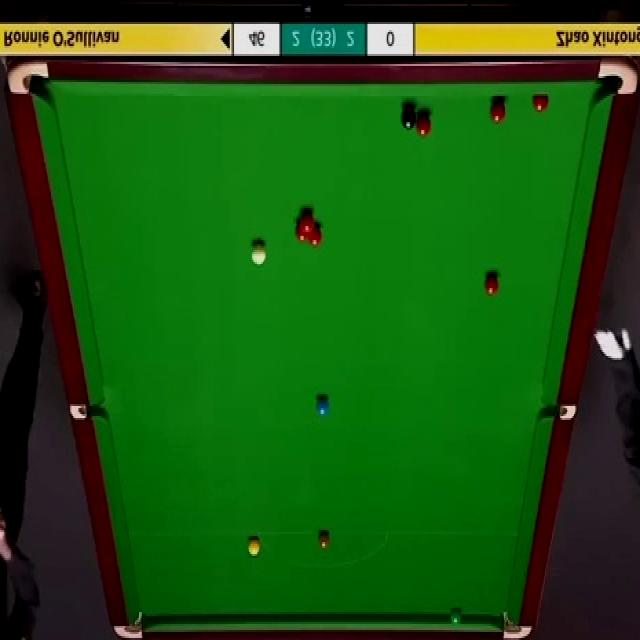black-ball: (402, 102, 416, 130)
blue-ball: (315, 398, 329, 416)
brown-ball: (318, 532, 330, 552)
green-ball: (450, 610, 460, 628)
red-ball: (415, 110, 432, 136), (490, 101, 507, 122), (484, 271, 498, 296), (294, 218, 308, 242), (530, 98, 551, 113), (309, 222, 322, 246), (300, 210, 316, 229)
white-ball: (249, 245, 267, 266)
yellow-ball: (247, 538, 259, 554)
